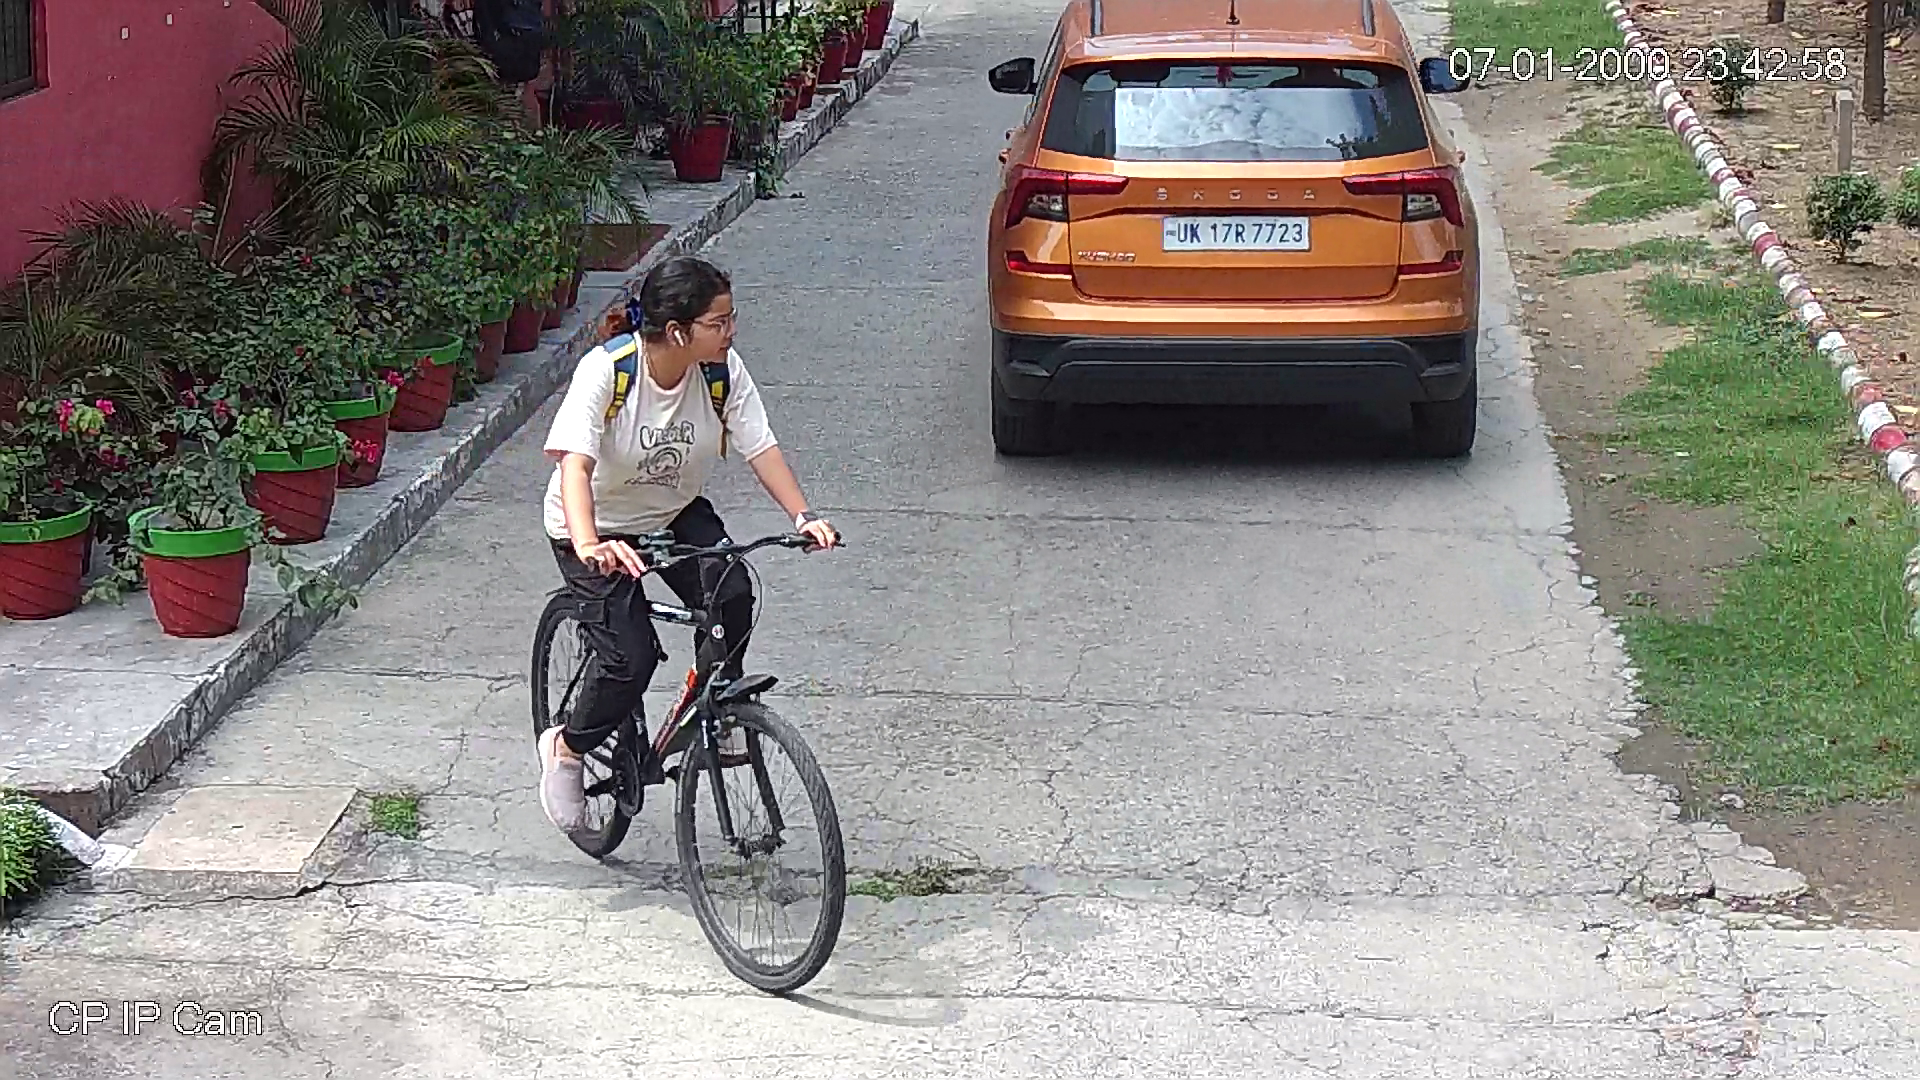plate: (1158, 209, 1315, 252)
